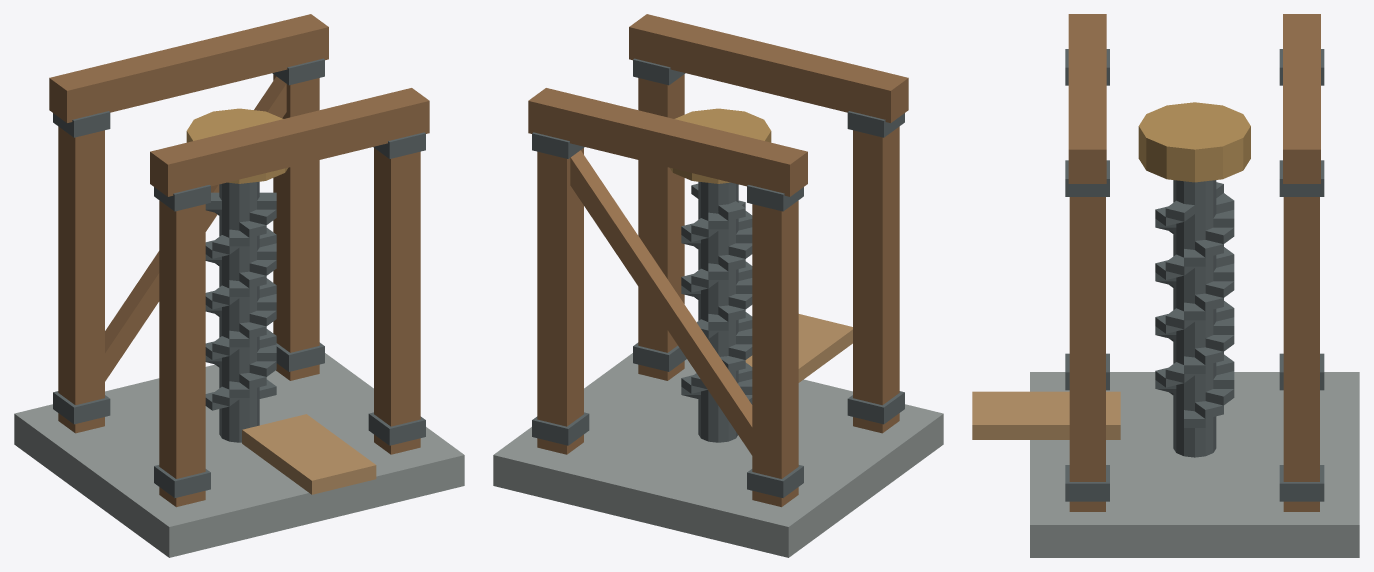
The model's file is vf_quarry.glb.
The picture shows the model from 3 angles, left to right: view 1: azimuth 30°, elevation 25°; view 2: azimuth 150°, elevation 25°; view 3: azimuth 270°, elevation 25°; orthographic projection. The views are drawn at different scales.
Parts seen in each view (by area): view 1: Static, Drill; view 2: Static, Drill; view 3: Static, Drill.
Part boxes in pixels (x1,y1,x2,y2): Static: (14, 14, 464, 557); Drill: (186, 108, 287, 442); Static: (493, 14, 943, 557); Drill: (670, 108, 771, 442); Static: (972, 14, 1359, 557); Drill: (1138, 102, 1250, 457).
Size of the model in its own units: 2.2 by 2.67 by 2.35.
